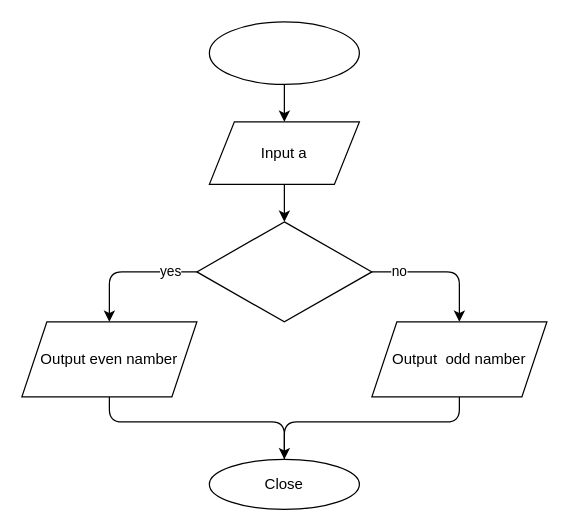
Some shapes in this 569 by 531 pixel diagram are drawn without their labels. The shapes that lost their labels are listed below. From the top down, each one's centre as x and y in pixels, then its label:
the point at 283,52: Start
the point at 284,271: a mod 2 = 0
